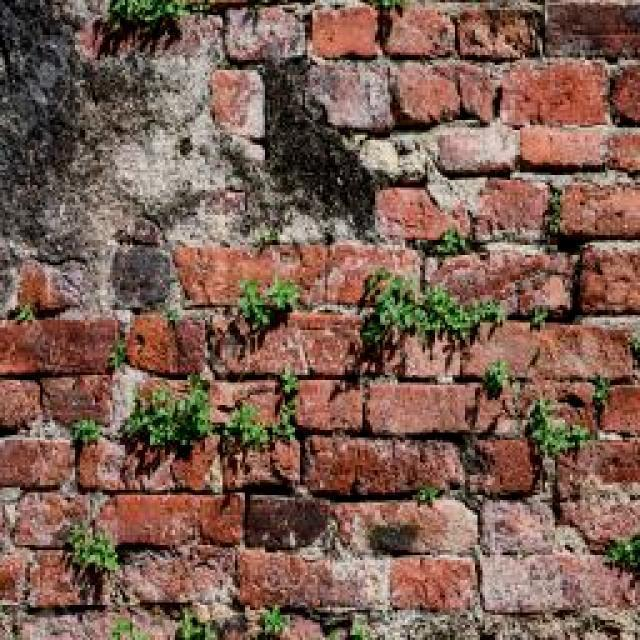crack: (302, 488, 487, 515)
dampness: (0, 4, 389, 314), (2, 0, 102, 246), (216, 1, 558, 67), (299, 59, 551, 135), (4, 234, 179, 317)
vegetation: (329, 271, 530, 362), (3, 299, 121, 390), (492, 368, 610, 457), (213, 377, 304, 492), (532, 181, 637, 248), (98, 1, 214, 54), (63, 524, 125, 610), (235, 274, 304, 333), (364, 273, 421, 343), (176, 380, 217, 442), (107, 613, 165, 640), (604, 534, 640, 572), (432, 227, 474, 257), (175, 610, 214, 640), (256, 605, 288, 638), (70, 417, 105, 445), (545, 187, 564, 238), (251, 226, 285, 249), (278, 366, 300, 399), (345, 613, 370, 640), (11, 303, 37, 323)
